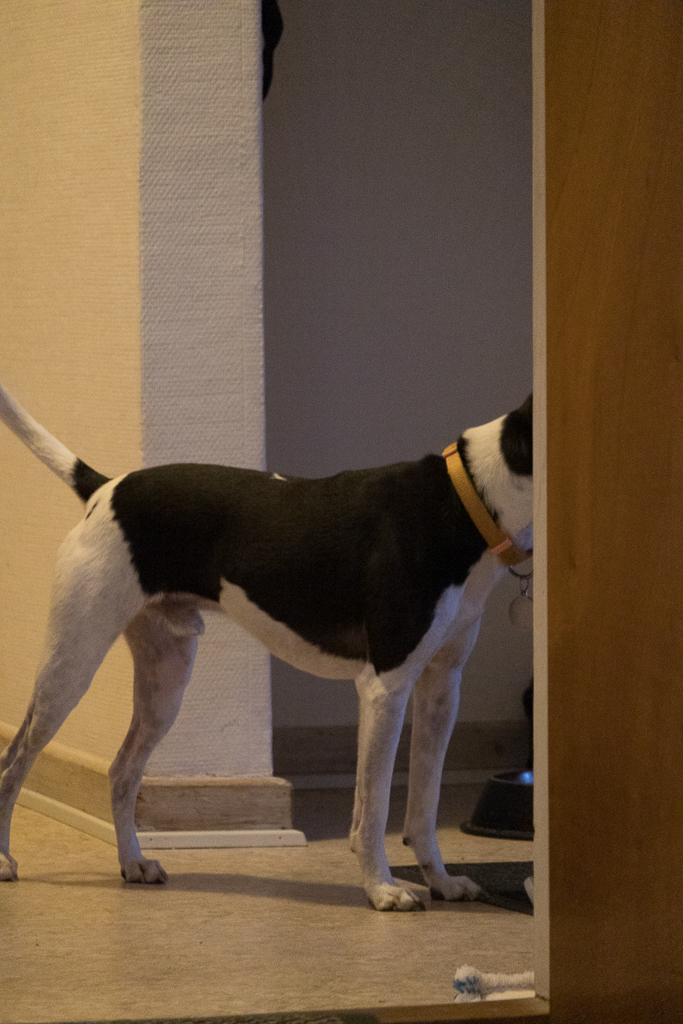Dog: (0, 378, 543, 919)
